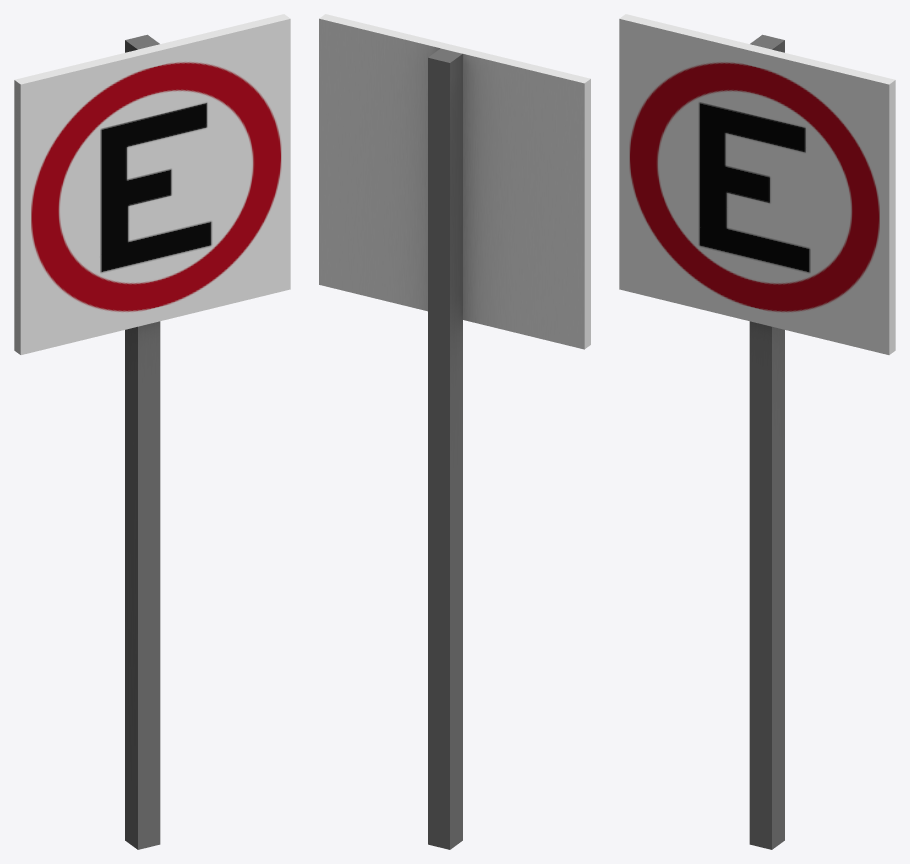
File: NOestacionarse.glb
The picture shows the model from 3 angles, left to right: view 1: azimuth 30°, elevation 25°; view 2: azimuth 150°, elevation 25°; view 3: azimuth 330°, elevation 25°; orthographic projection.
Parts seen in each view (by area): view 1: Cube; view 2: Cube; view 3: Cube.
Part boxes in pixels (x1,y1,x2,y2): Cube: (14, 14, 290, 849); Cube: (319, 14, 590, 849); Cube: (619, 14, 895, 849).
Size of the model in its own units: 2.4 by 6.8 by 0.3.
1 material, 1 textured.
